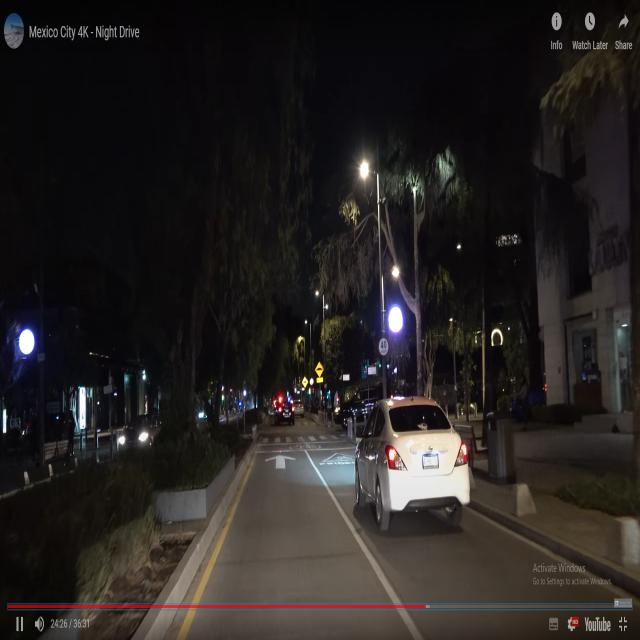headlights: (114, 426, 157, 455)
